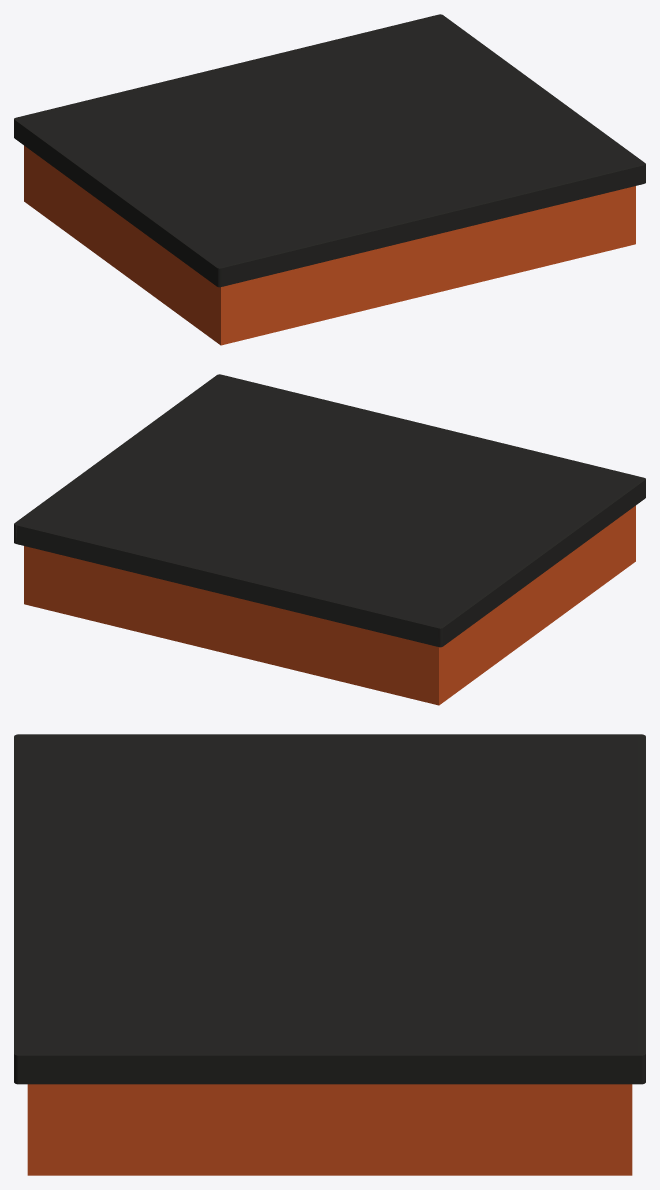
The model's file is bento.glb.
The picture shows the model from 3 angles, top to bottom: view 1: azimuth 30°, elevation 25°; view 2: azimuth 150°, elevation 25°; view 3: azimuth 270°, elevation 25°; orthographic projection. The views are drawn at different scales.
Parts seen in each view (by area): view 1: lid, trey; view 2: lid, trey; view 3: lid, trey.
Part boxes in pixels (x1,y1,x2,y2): lid: [14, 14, 645, 287]; trey: [24, 145, 635, 345]; lid: [14, 374, 645, 647]; trey: [24, 505, 635, 705]; lid: [14, 734, 645, 1084]; trey: [27, 1084, 632, 1175].
Bounding box in the file's own units: 4.13 × 0.7504 × 3.43.
